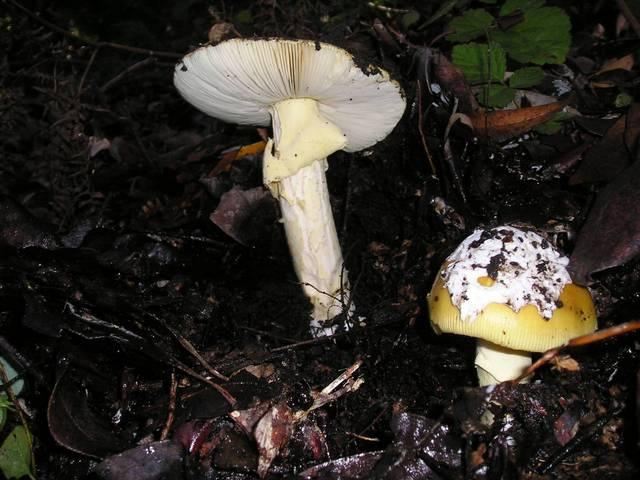edible_mushroom: (171, 35, 407, 338), (425, 223, 598, 389)
